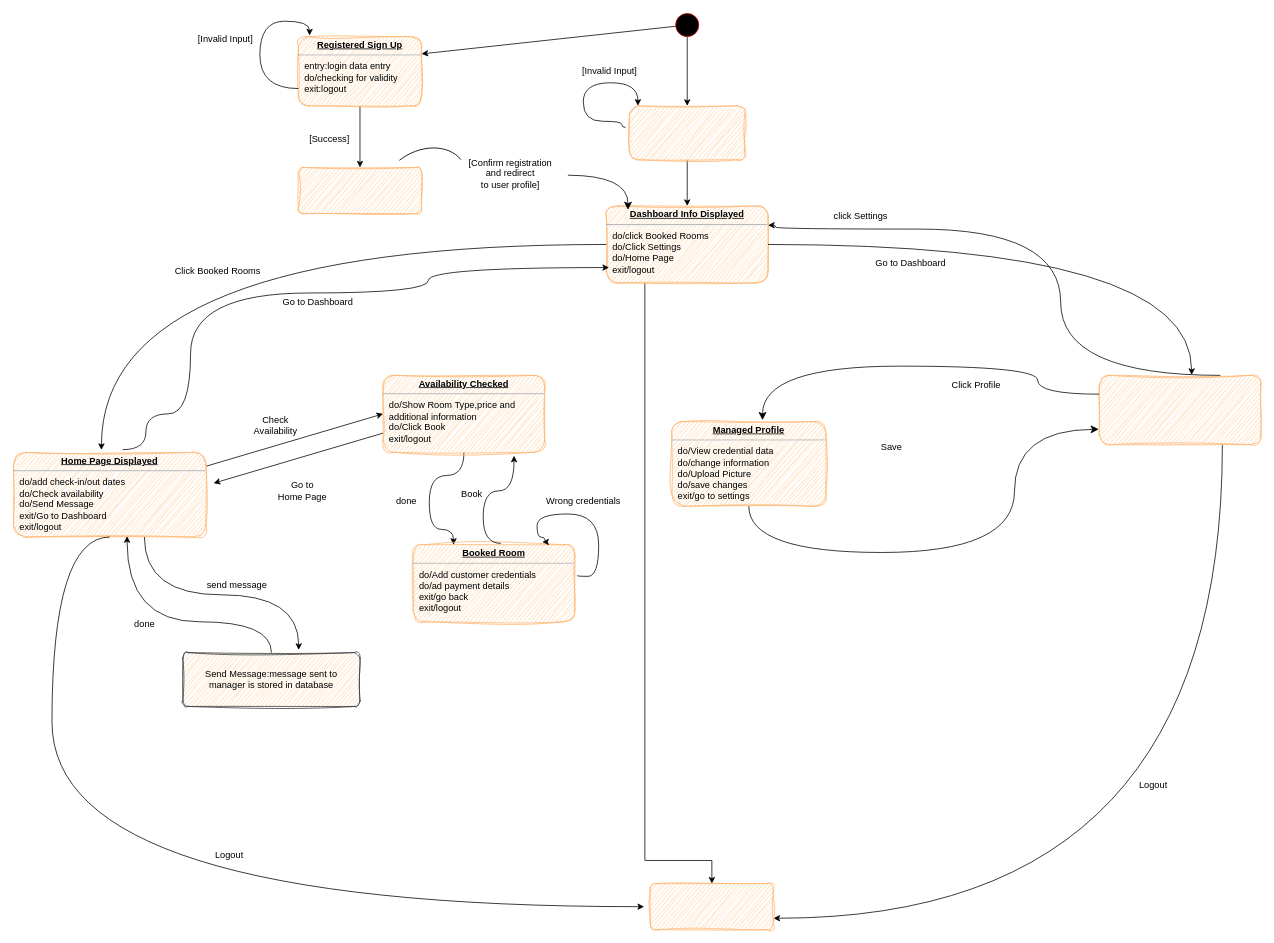
This 1274x943 diagram has some shape labels left out. Each missing label, with the centre of its shape:
Creation:Storing User information in database: the point at 360,190
Login entry:login data entry exit:logout: the point at 687,132
Logout exit/logout: the point at 711,906
Settings Displayed do/click profile exit/go to dashboard exit/logout: the point at 1179,410
